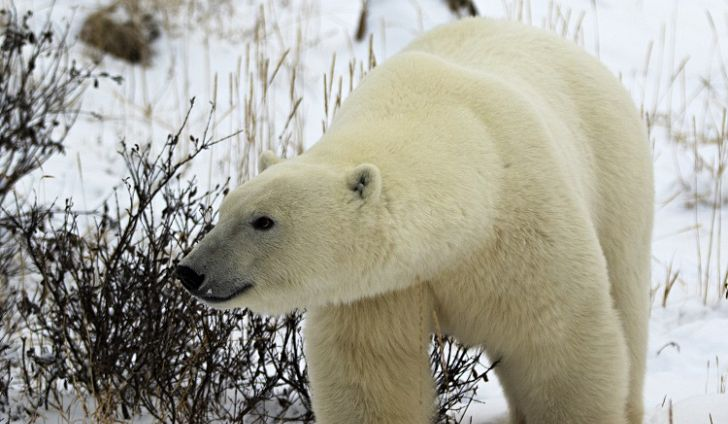Polar Bear: (170, 34, 668, 424)
